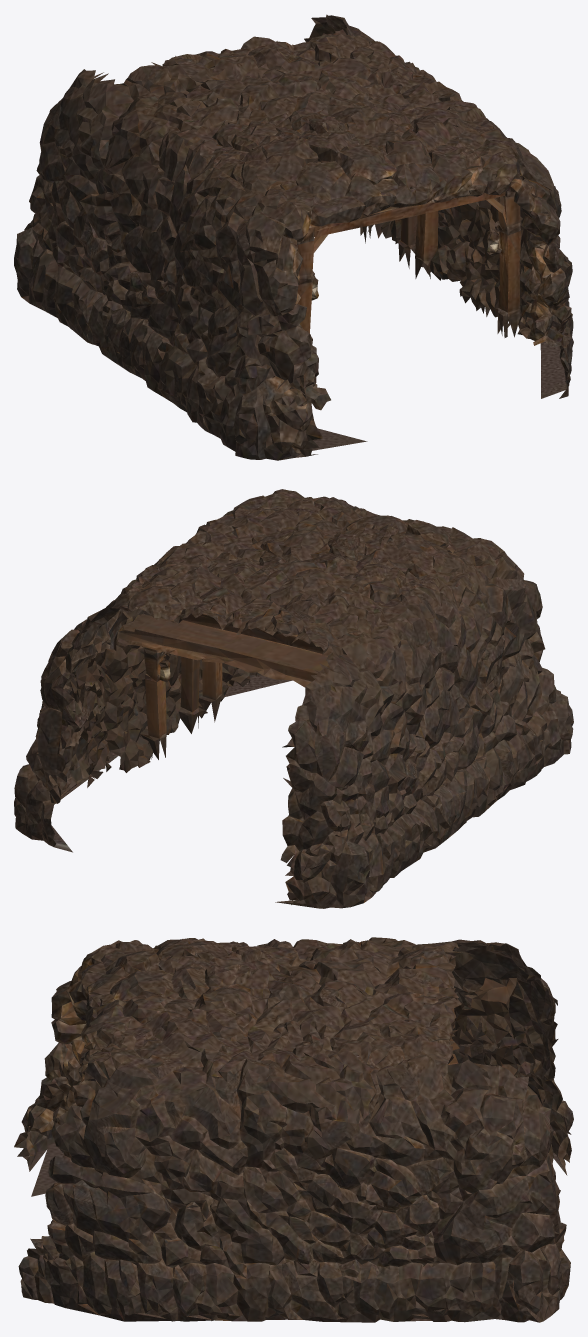
The model's file is mine_tunnel_shell.glb.
3 renders of one model, top to bottom at view 1: azimuth 30°, elevation 25°; view 2: azimuth 150°, elevation 25°; view 3: azimuth 270°, elevation 25°, orthographic. The views are drawn at different scales.
Parts seen in each view (by area): view 1: output_unwrapped; view 2: output_unwrapped; view 3: output_unwrapped.
Part boxes in pixels (left/top/right/bottom): output_unwrapped: left=14, top=14, right=573, bottom=460; output_unwrapped: left=14, top=489, right=573, bottom=908; output_unwrapped: left=14, top=937, right=573, bottom=1322.
Bounding box in the file's own units: 1.49 × 0.9397 × 1.87.
1 material, 1 textured.
